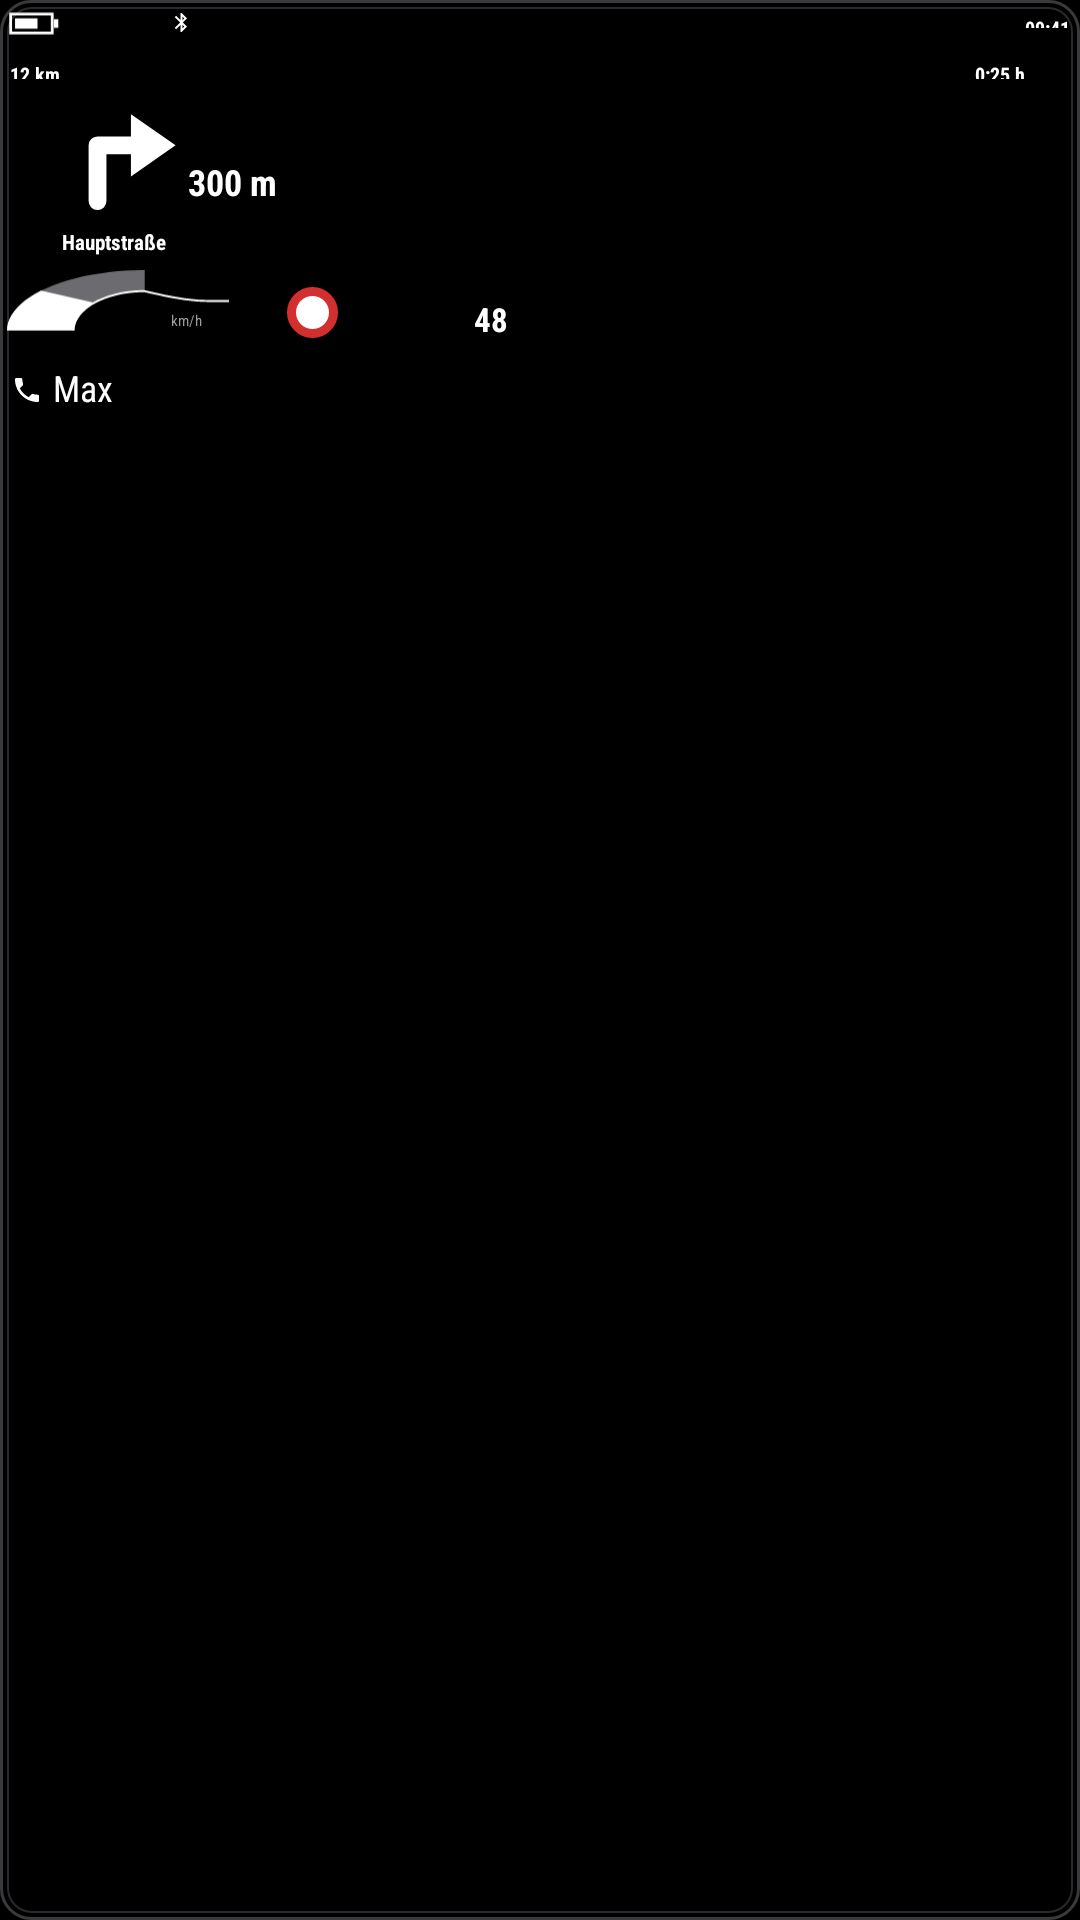

Icons on this 1080x1920 Android screen, each with its box as (x1, y1, x2, y2):
prev arrow right: (88, 114, 176, 210)
prev battery: (8, 11, 59, 36)
prev gauge: (7, 270, 229, 332)
prev phone: (15, 378, 39, 402)
